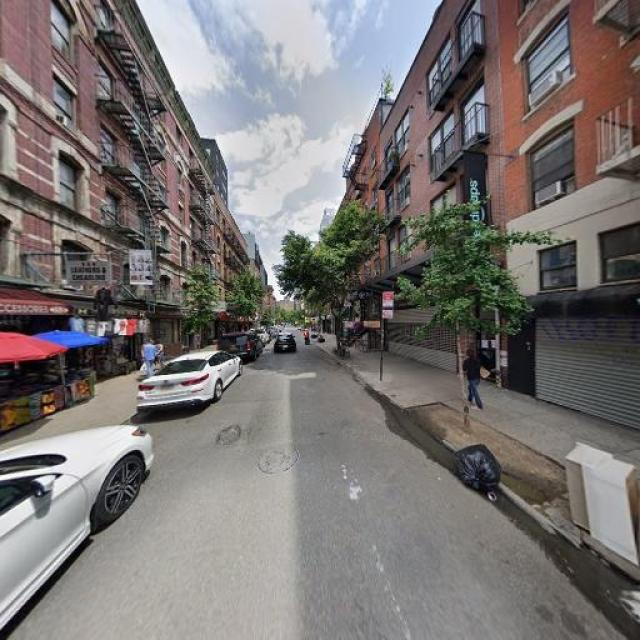Building: (497, 1, 640, 427), (384, 1, 492, 380), (1, 1, 99, 398), (104, 1, 189, 369)
